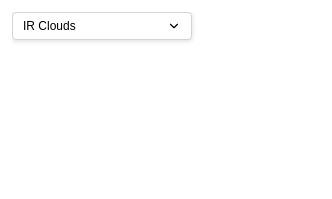
Test: MultiSelectComposite › shows every formatted option when opened
What coordinates should you click on to do the following:
click the button
I would click on:
 (102, 26)
Its box is [12,12,192,40].
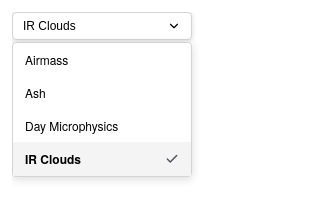
Expected: the text "Airmass" is shown, [25,51,68,68]
Expected: the text "Ash" is shown, [25,84,46,101]
Expected: the text "Day Microphysics" is shown, [25,117,118,134]
